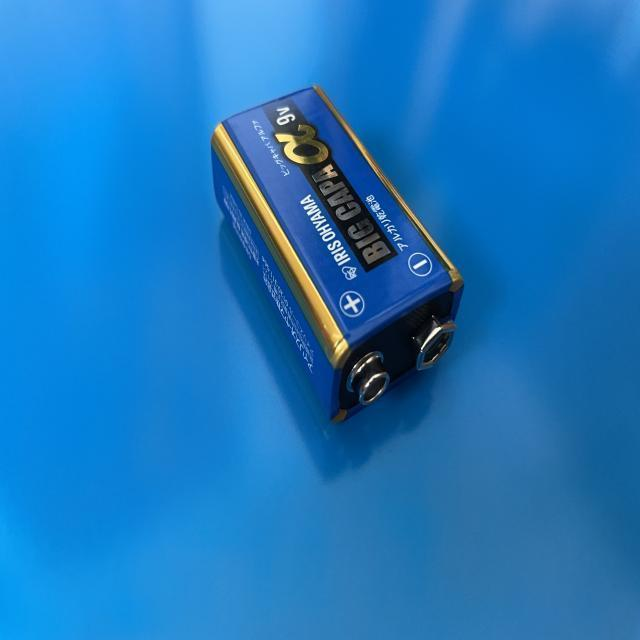9V: (209, 85, 464, 425)
